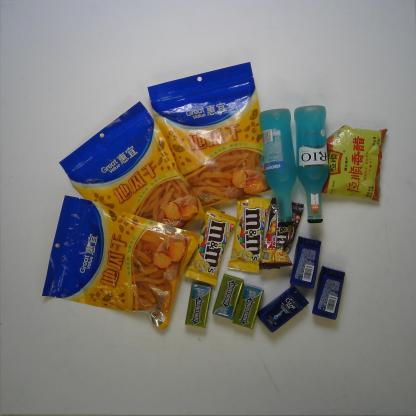Alcohol: (292, 103, 332, 225), (260, 105, 298, 228)
Chocolate: (185, 204, 236, 286), (228, 189, 268, 275), (263, 195, 302, 270)
Dried Fruit: (42, 196, 203, 336), (61, 102, 209, 236), (147, 62, 274, 210)
Gum: (214, 271, 244, 319), (182, 280, 212, 328), (235, 283, 261, 330)
Personal Hygiene: (257, 286, 310, 334), (314, 266, 346, 321), (290, 234, 322, 288)
Seasoner: (324, 125, 387, 204)
